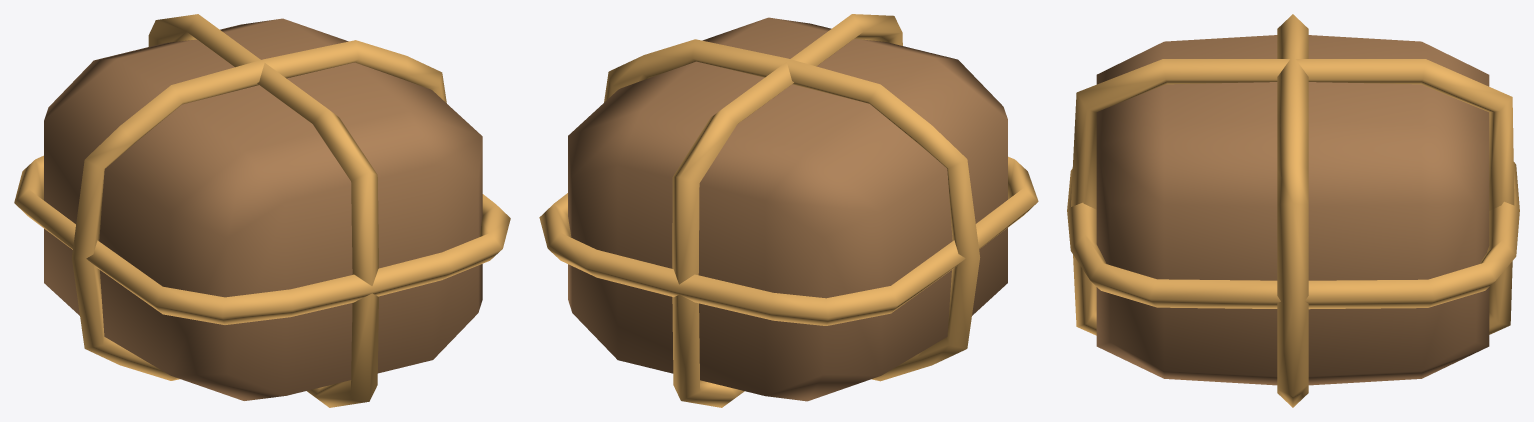
File: GunnyBag_Brown.fbx
3 renders of one model, left to right at view 1: azimuth 30°, elevation 25°; view 2: azimuth 150°, elevation 25°; view 3: azimuth 270°, elevation 25°, orthographic. The views are drawn at different scales.
Visible parts, largest first — view 1: GunnyBag_Brown; view 2: GunnyBag_Brown; view 3: GunnyBag_Brown.
Part boxes in pixels (x1,y1,x2,y2): GunnyBag_Brown: (14,14,510,407); GunnyBag_Brown: (539,14,1038,407); GunnyBag_Brown: (1067,14,1519,407).
Bounding box in the file's own units: 61.49 × 46.27 × 61.53.
